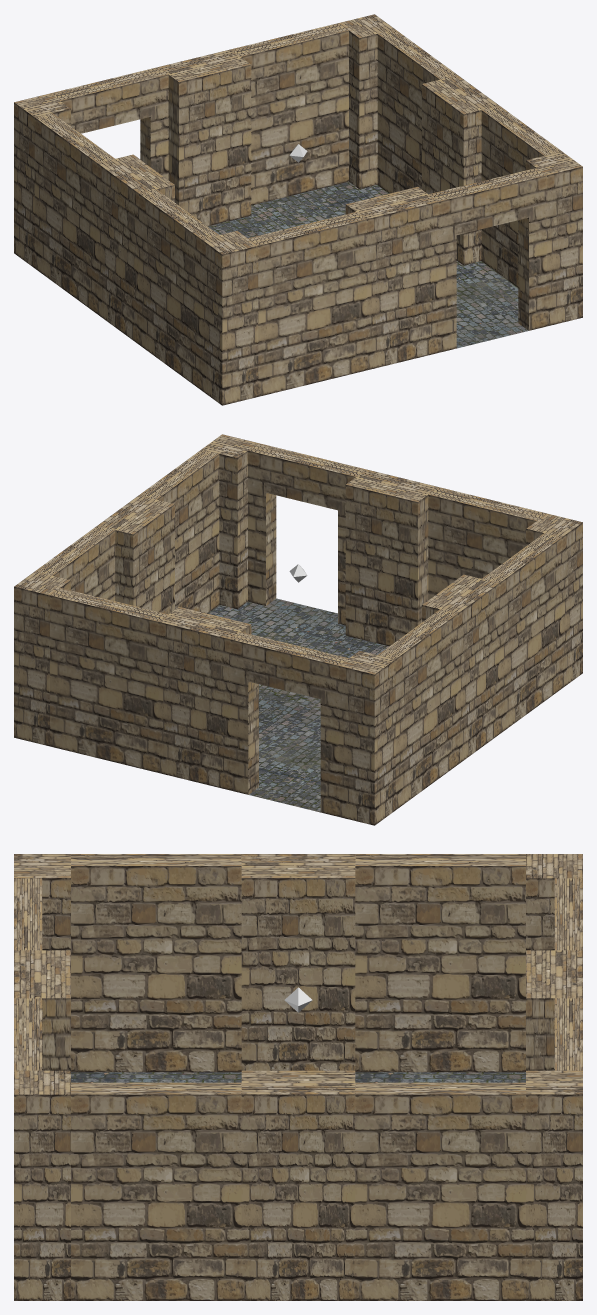
The model's file is 1_2boxSwitcher.fbx.
The picture shows the model from 3 angles, top to bottom: view 1: azimuth 30°, elevation 25°; view 2: azimuth 150°, elevation 25°; view 3: azimuth 270°, elevation 25°; orthographic projection. The views are drawn at different scales.
Visible parts, largest first — view 1: Cube_2, Plane; view 2: Cube_2, Plane; view 3: Cube_2, Plane.
Boxes of the visible parts, x1,y1,x2,y2 form: Cube_2: [14, 14, 582, 405]; Plane: [208, 181, 528, 348]; Cube_2: [14, 434, 582, 825]; Plane: [208, 598, 388, 812]; Cube_2: [14, 854, 582, 1300]; Plane: [71, 1072, 525, 1082].
Bounding box in the file's own units: 20 × 8 × 20.
3 materials, 3 textured.
